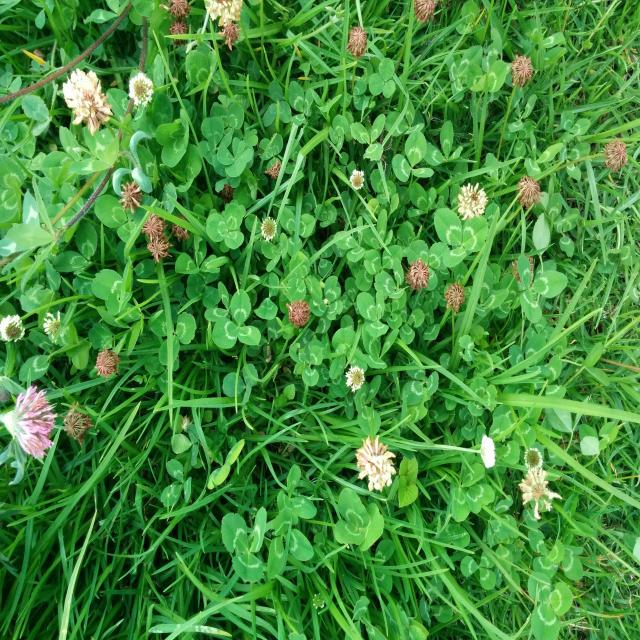Four Leaf Clover: (217, 137, 253, 177)
